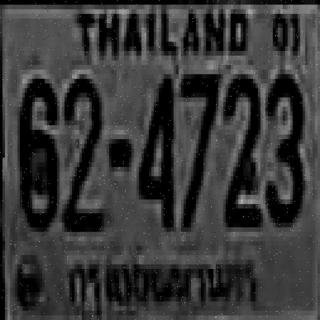N02: (62, 74, 99, 227), (223, 70, 258, 222)
N03: (263, 70, 303, 218)
N04: (136, 72, 171, 225)
N06: (18, 74, 54, 227)
N07: (180, 70, 217, 222)
